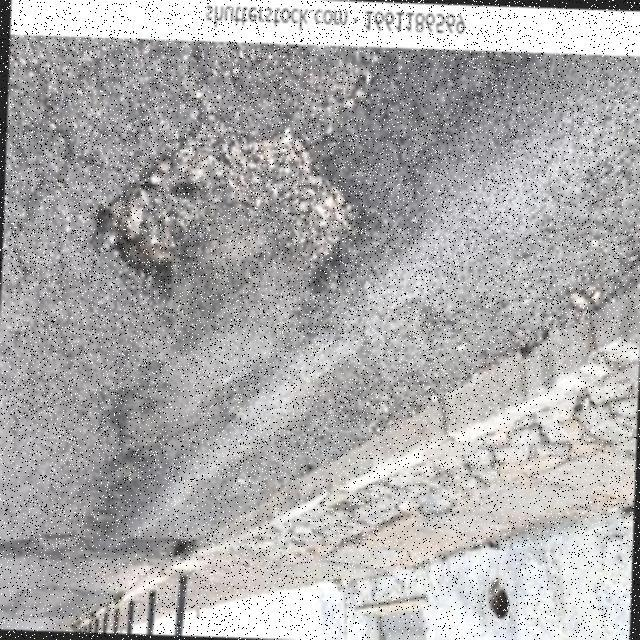Pothole: (95, 118, 381, 293)
